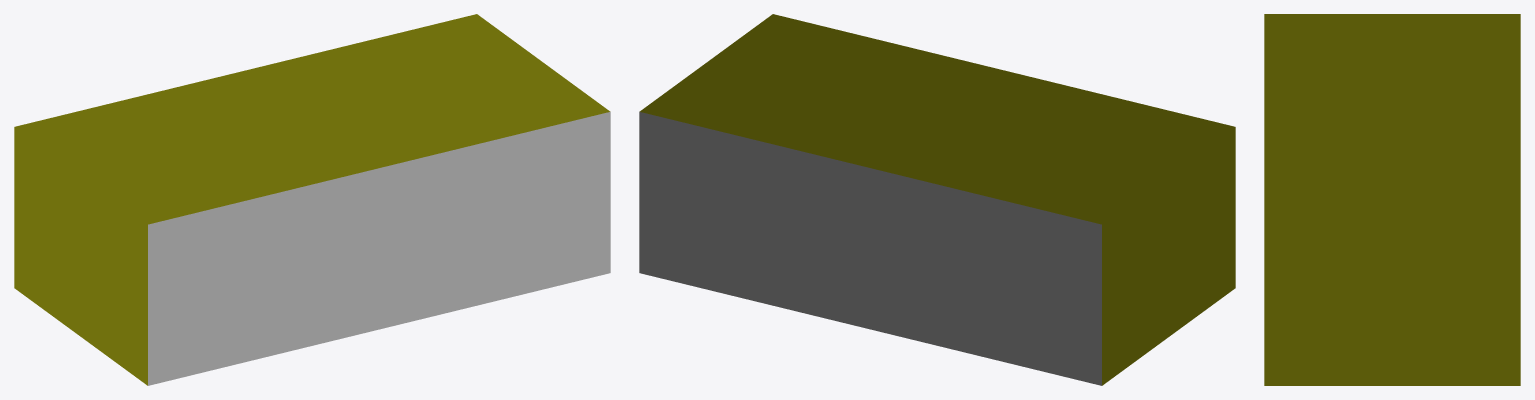
Rendered from idf.obj.
3 renders of one model, left to right at view 1: azimuth 30°, elevation 25°; view 2: azimuth 150°, elevation 25°; view 3: azimuth 270°, elevation 25°, orthographic. The views are drawn at different scales.
Size of the model in its own units: 12 by 4 by 6.
